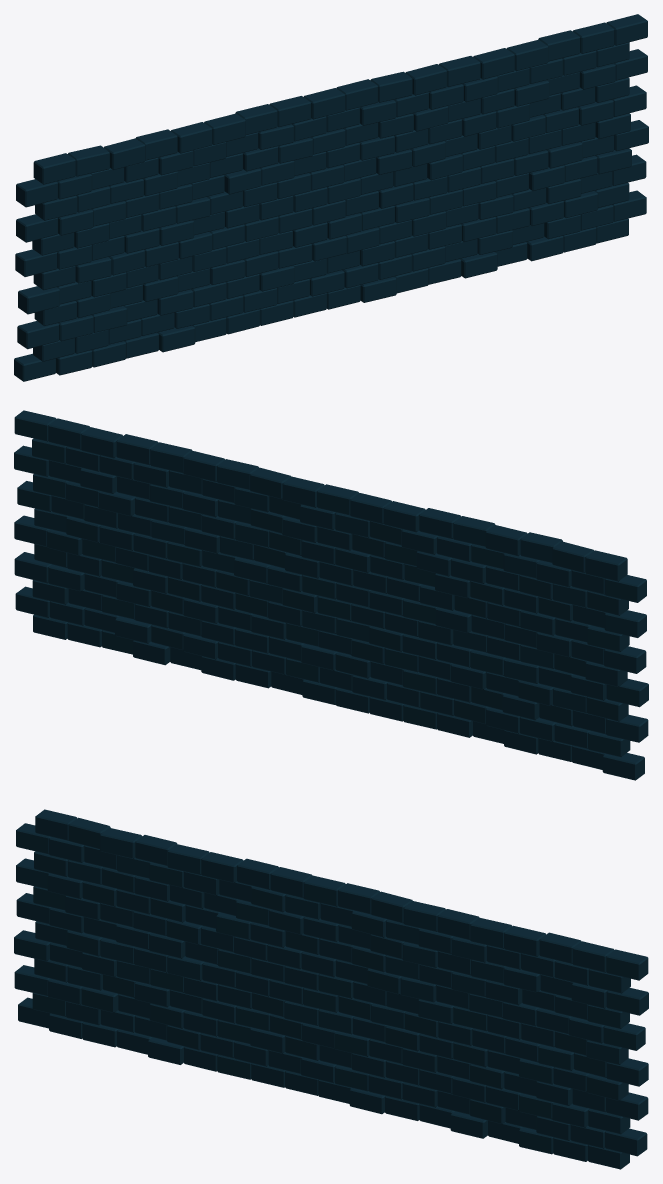
File: wall.fbx
The picture shows the model from 3 angles, top to bottom: view 1: azimuth 30°, elevation 25°; view 2: azimuth 150°, elevation 25°; view 3: azimuth 330°, elevation 25°; orthographic projection.
Parts seen in each view (by area): view 1: Cube; view 2: Cube; view 3: Cube.
Part boxes in pixels (box(x1,y1,x2,y2)): Cube: box(14, 14, 648, 381); Cube: box(14, 410, 648, 780); Cube: box(14, 809, 648, 1169).
Size of the model in its own units: 1189 by 384 by 47.67.
